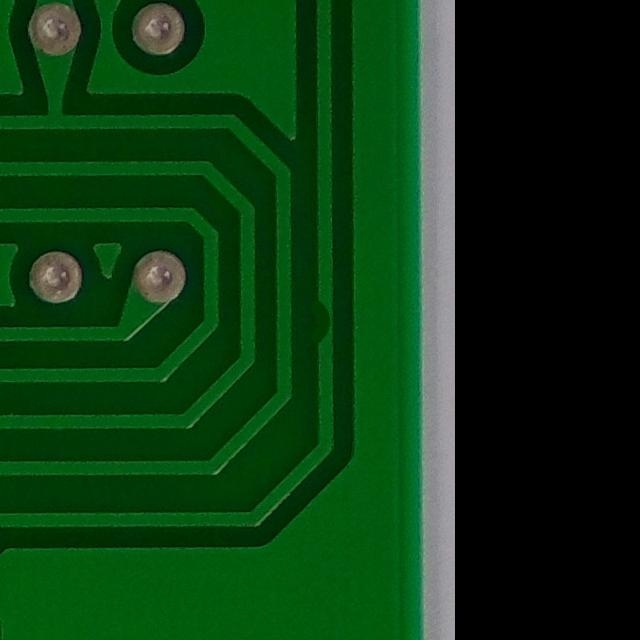mouse_bite: (297, 284, 343, 355)
